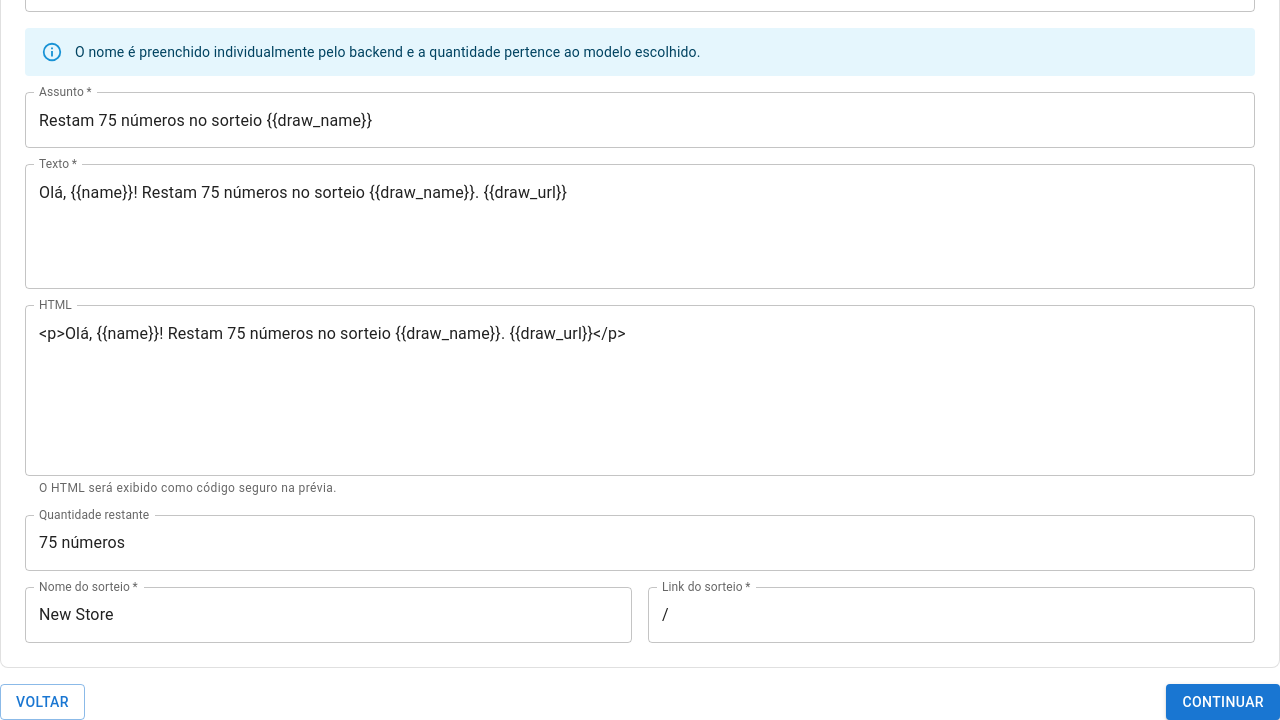
Test: all_with_email fica disponível no modelo EMAIL_DRAW_REMAINING_75
(page scrolled)
Expected: the field showing "75 números" is shown, left=25, top=515, right=1255, bottom=571
Click the button "Continuar" at (1223, 702), box left=1166, top=684, right=1279, bottom=719
(page scrolled)
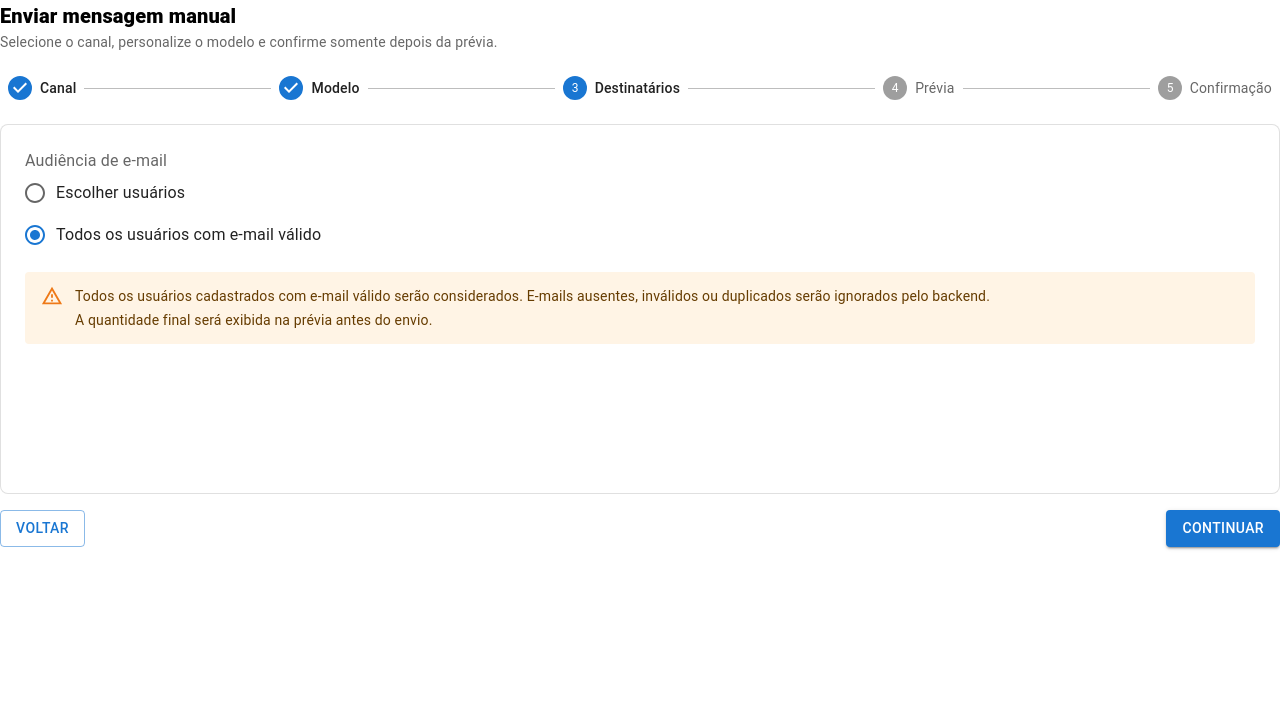
Expected: the button "Continuar" is enabled, left=1166, top=510, right=1279, bottom=546
Result: the radio button labelled "Escolher usuários" is not checked at left=23, top=181, right=185, bottom=205
Result: the radio button labelled "Todos os usuários com e-mail válido" is checked at left=23, top=223, right=321, bottom=247
